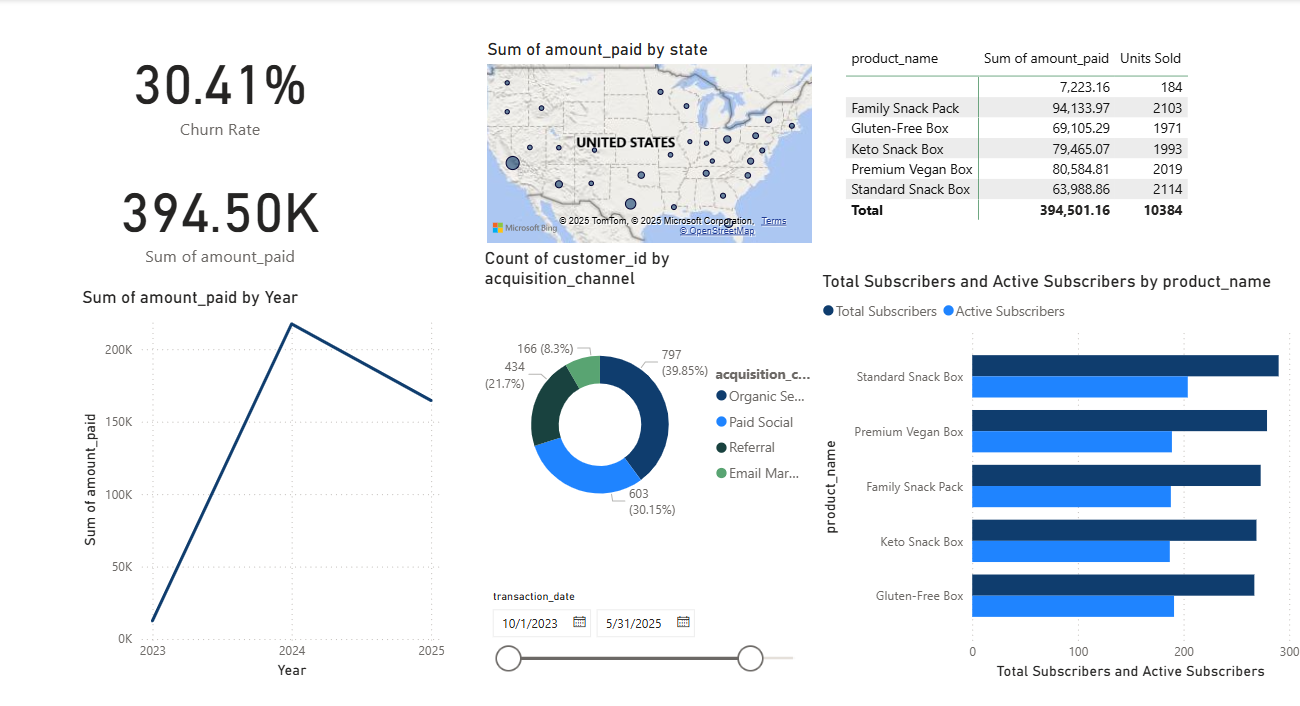

The page's visual inventory and layout, read from the dashboard file:
{"tool":"powerbi","page":{"name":"Page 1","canvas":[1280,720],"ordinal":0},"visuals":[{"type":"card","fields":{"Values":["Sum(public transactions.amount_paid)"]},"box":[79.5,144.3,280,137],"z":0},{"type":"lineChart","fields":{"Category":["public transactions.transaction_date.Variation.Date Hierarchy.Year","public transactions.transaction_date.Variation.Date Hierarchy.Quarter","public transactions.transaction_date.Variation.Date Hierarchy.Month","public transactions.transaction_date.Variation.Date Hierarchy.Day"],"Y":["Sum(public transactions.amount_paid)"]},"box":[79.5,281.3,364.4,388.9],"z":1000},{"type":"map","fields":{"Category":["public customers.state"],"Size":["Sum(public transactions.amount_paid)"]},"box":[475.7,39.1,327.7,204.2],"z":2000},{"type":"donutChart","fields":{"Category":["public customers.acquisition_channel"],"Y":["CountNonNull(public customers.customer_id)"]},"box":[473.2,243.3,332.6,308.2],"z":2001},{"type":"card","fields":{"Values":["public subscriptions.Churn Rate"]},"box":[79.5,15.9,280,144.3],"z":2002},{"type":"slicer","fields":{"Values":["public transactions.transaction_date"]},"box":[473.2,572.3,330.2,148],"z":2003},{"type":"pivotTable","fields":{"Rows":["public products.product_name"],"Values":["Sum(public transactions.amount_paid)","public transactions.Units Sold"]},"box":[826.6,41.6,357.1,201.8],"z":2004},{"type":"clusteredBarChart","fields":{"Category":["public products.product_name"],"Y":["public subscriptions.Total Subscribers","public subscriptions.Active Subscribers"]},"box":[803.4,265.4,476.9,404.8],"z":2005}]}

Visuals, with their boxes on the page's 1280x720 design canvas (x1, y1, x2, y2). These are canvas units, not pixel positions in the 1300x706 screenshot, which may show the page scaled, cropped or inside an application window:
card - Sum(public transactions.amount_paid): {"x1": 80, "y1": 144, "x2": 360, "y2": 281}
lineChart - public transactions.transaction_date.Variation.Date Hierarchy.Year x public transactions.transaction_date.Variation.Date Hierarchy.Quarter: {"x1": 80, "y1": 281, "x2": 444, "y2": 670}
map - public customers.state x Sum(public transactions.amount_paid): {"x1": 476, "y1": 39, "x2": 803, "y2": 243}
donutChart - public customers.acquisition_channel x CountNonNull(public customers.customer_id): {"x1": 473, "y1": 243, "x2": 806, "y2": 552}
card - public subscriptions.Churn Rate: {"x1": 80, "y1": 16, "x2": 360, "y2": 160}
slicer - public transactions.transaction_date: {"x1": 473, "y1": 572, "x2": 803, "y2": 720}
pivotTable - public products.product_name x Sum(public transactions.amount_paid): {"x1": 827, "y1": 42, "x2": 1184, "y2": 243}
clusteredBarChart - public products.product_name x public subscriptions.Total Subscribers: {"x1": 803, "y1": 265, "x2": 1280, "y2": 670}
